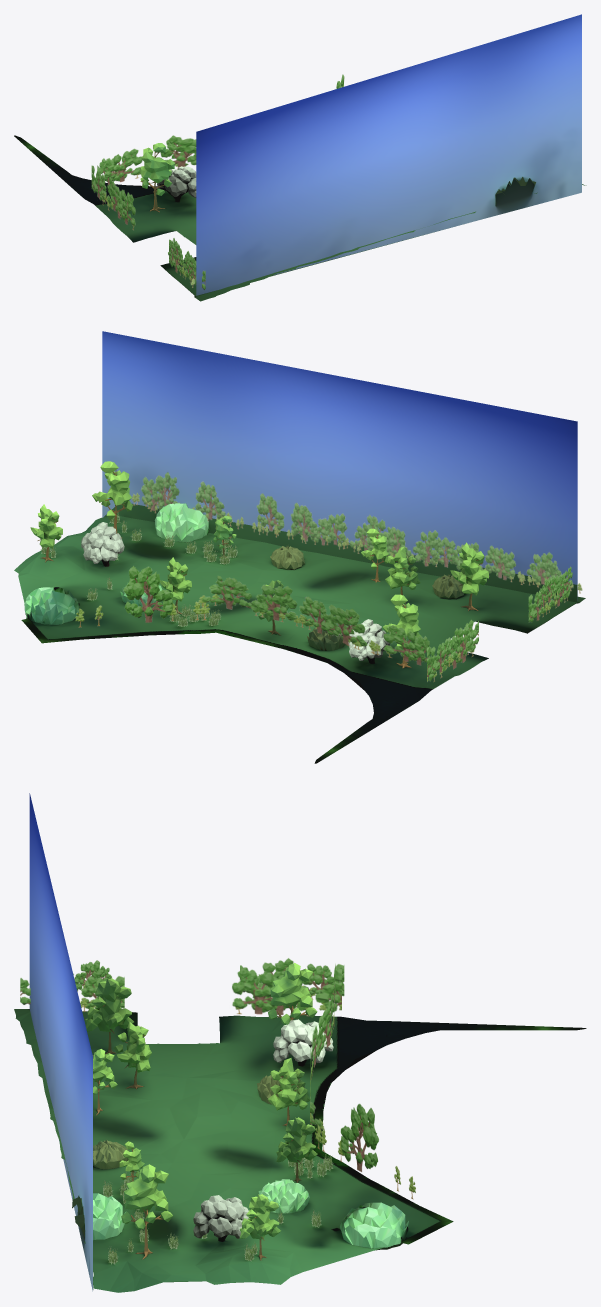
3 renders of one model, top to bottom at view 1: azimuth 30°, elevation 25°; view 2: azimuth 150°, elevation 25°; view 3: azimuth 270°, elevation 25°, orthographic. The views are drawn at different scales.
Bounding box in the file's own units: 36.13 × 14.39 × 31.71.
Materials: 5 (5 with a texture image).
